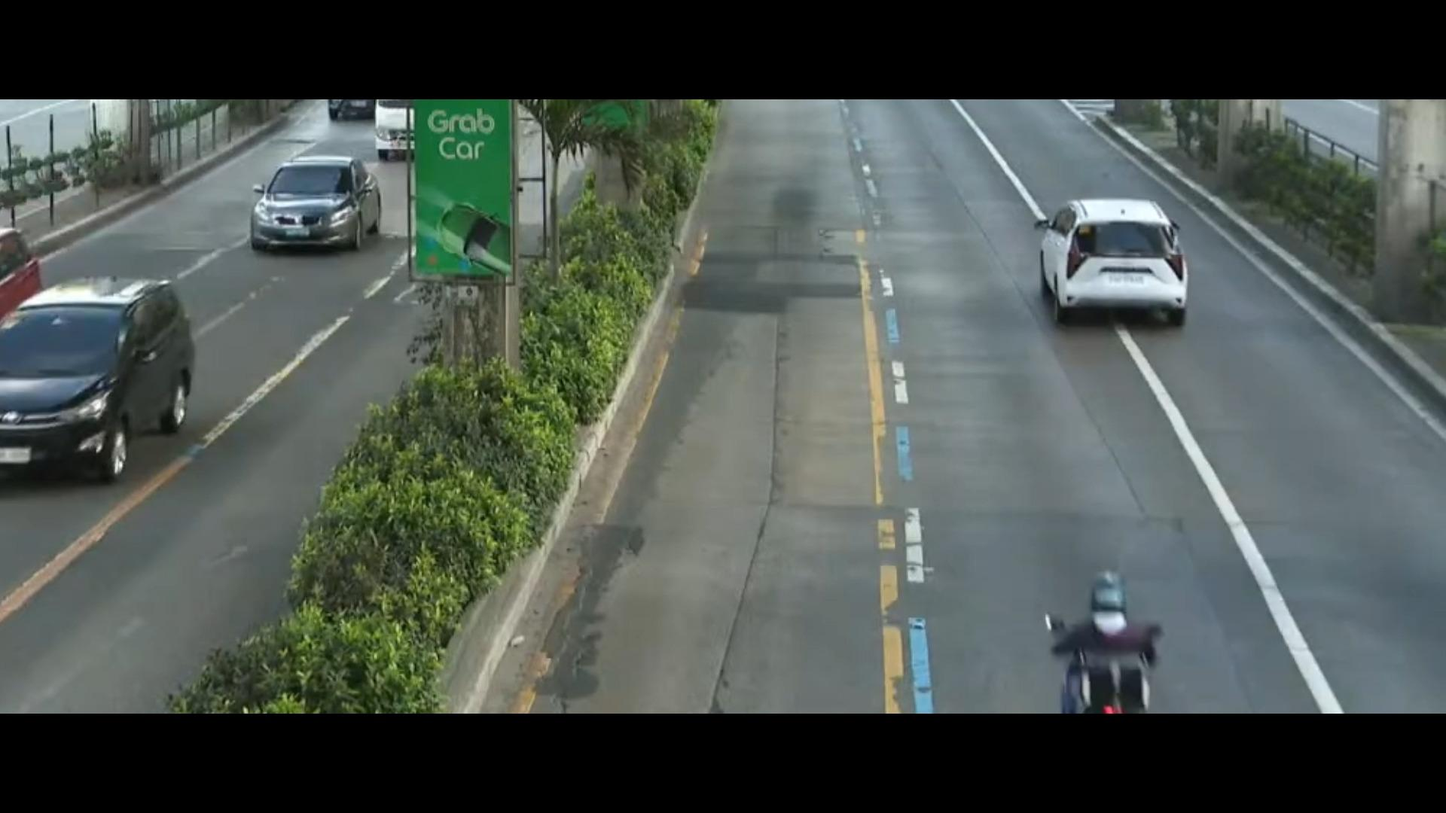Motorcycle: (1045, 540, 1182, 714)
SUV: (0, 243, 219, 533), (995, 173, 1213, 346)
Sedan: (241, 157, 398, 277)
